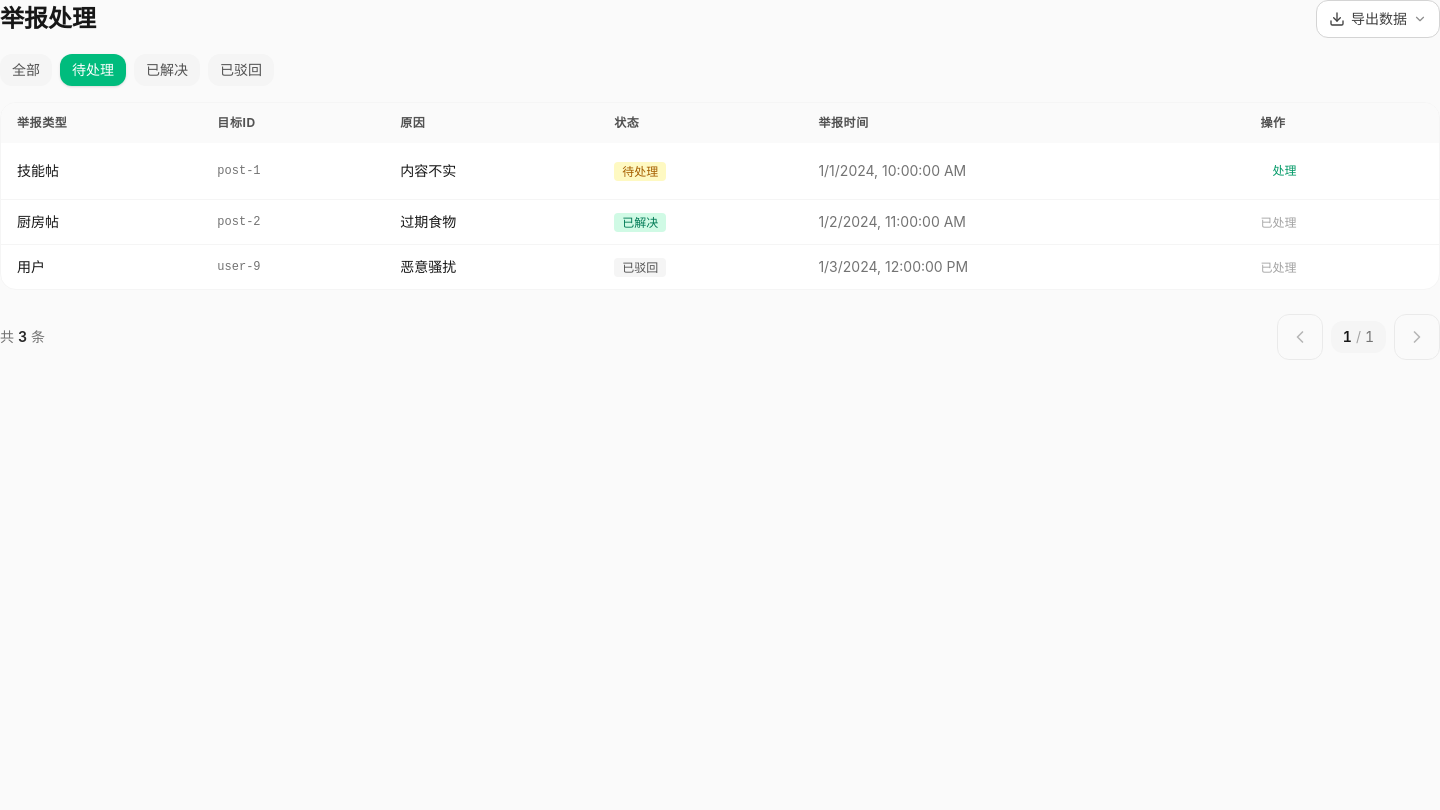
Test: ReportManagement 处理弹窗 › 点击"处理"打开弹窗显示举报 ID
Expected: the text "内容不实" is shown, [384,143,598,200]
// 点击第一个"处理"按钮（桌面表格中的）
Click the button "处理". click: point(1284, 171)
box: [1260,155,1308,187]
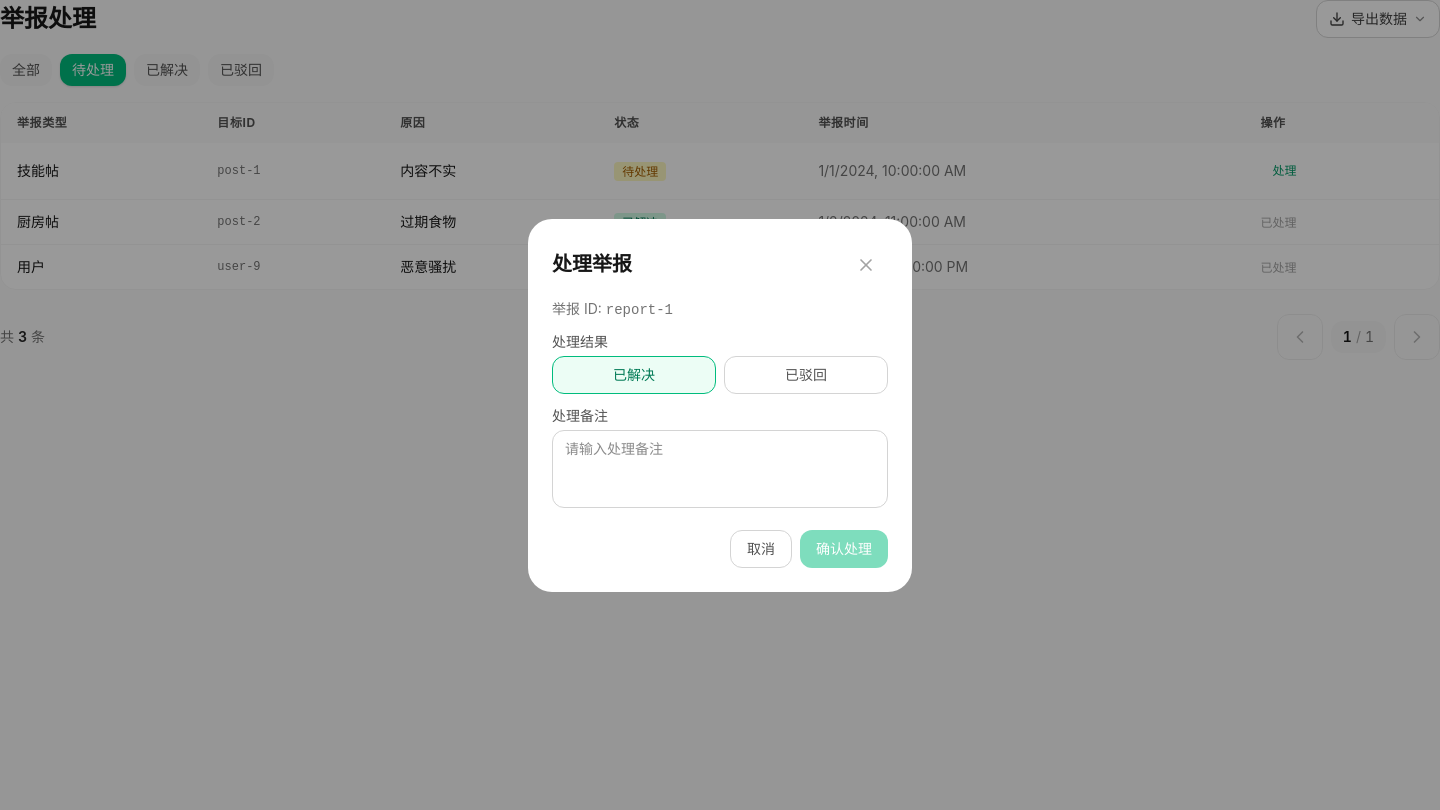
Result: the heading "处理举报" is shown at [552,252,632,277]
Result: the text "report-1" is shown at [606,302,673,318]
